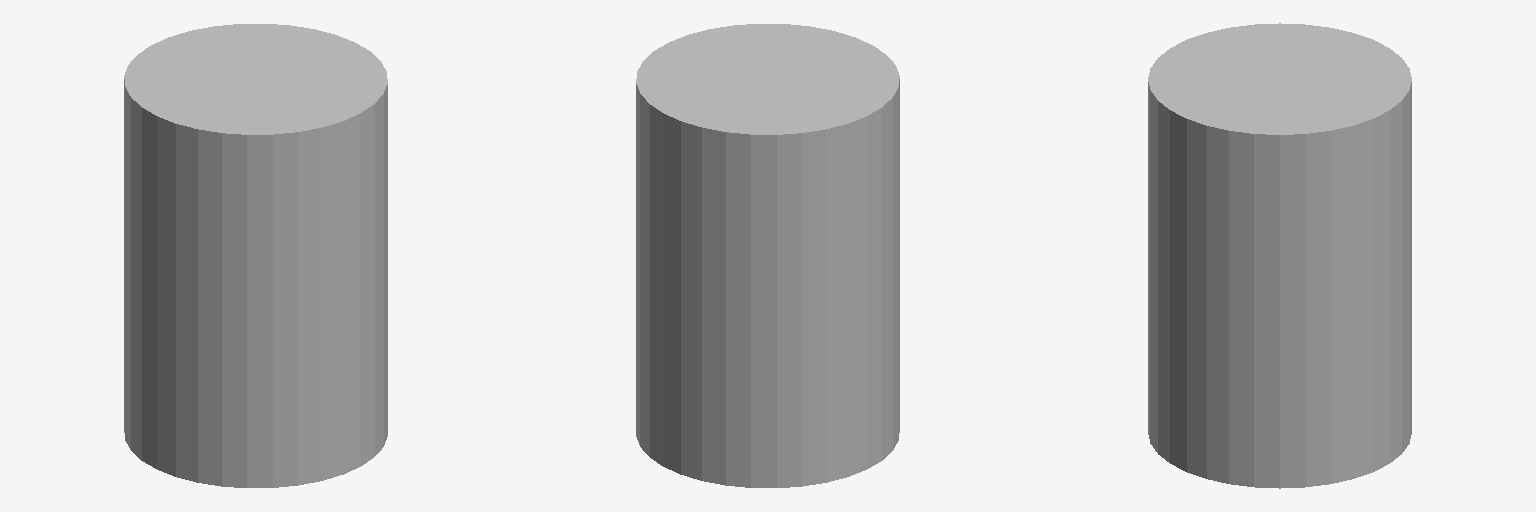
File: barrel_2.obj
The picture shows the model from 3 angles: view 1: azimuth 30°, elevation 25°; view 2: azimuth 150°, elevation 25°; view 3: azimuth 270°, elevation 25°; orthographic projection.
Visible parts, largest first — view 1: Barrel.002; view 2: Barrel.002; view 3: Barrel.002.
Boxes of the visible parts, x1=… form: Barrel.002: x1=124, y1=24, x2=387, y2=487; Barrel.002: x1=636, y1=24, x2=899, y2=487; Barrel.002: x1=1148, y1=23, x2=1411, y2=488.
Size of the model in its own units: 0.416 by 0.6143 by 0.416.